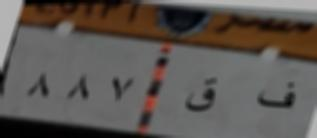7: (112, 74, 135, 105)
8: (25, 68, 54, 102), (67, 74, 92, 105)
faa: (252, 71, 299, 113)
qaaf: (183, 74, 220, 120)
